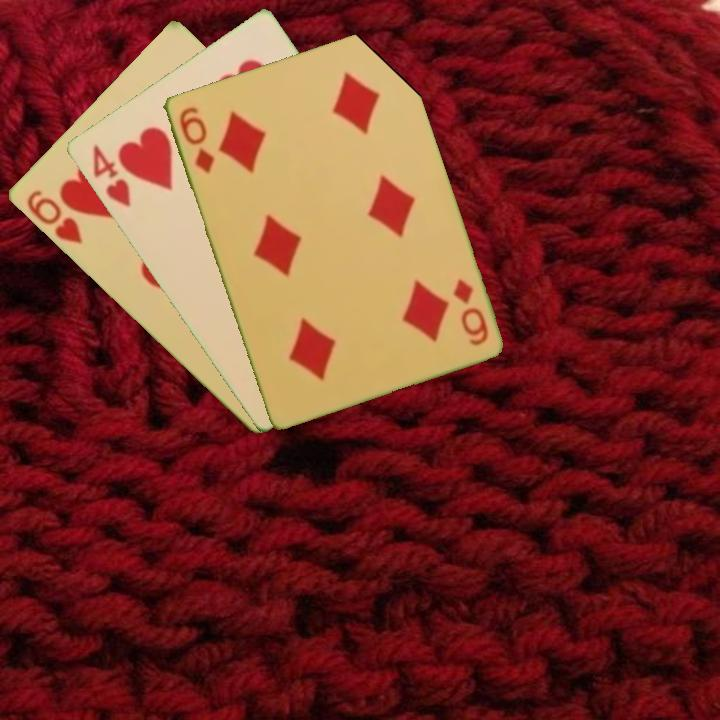4h: (88, 141, 133, 210)
6d: (449, 275, 491, 349), (175, 103, 217, 176)
6h: (22, 186, 85, 247)
